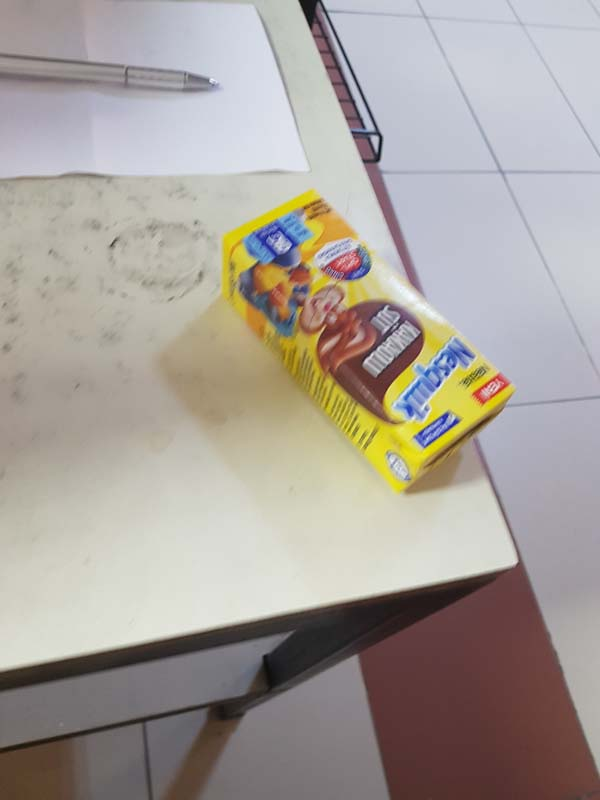nesquick200ml: (211, 184, 523, 501)
